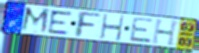E: (129, 17, 156, 44), (47, 10, 74, 36)
F: (75, 10, 103, 39)
H: (151, 18, 182, 47), (99, 13, 126, 43)
M: (19, 6, 51, 36)
